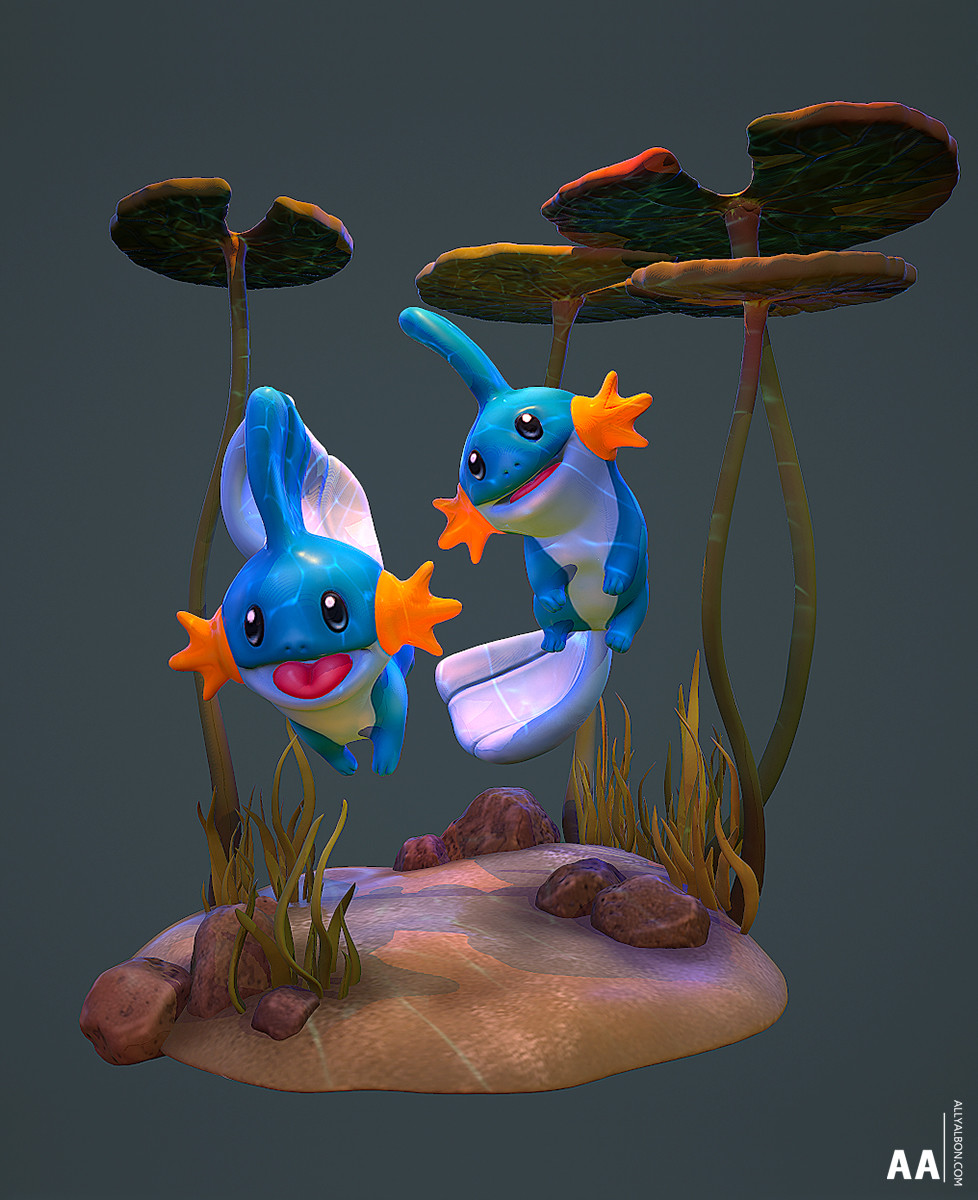mudkip: (397, 276, 675, 771), (177, 375, 461, 811)
